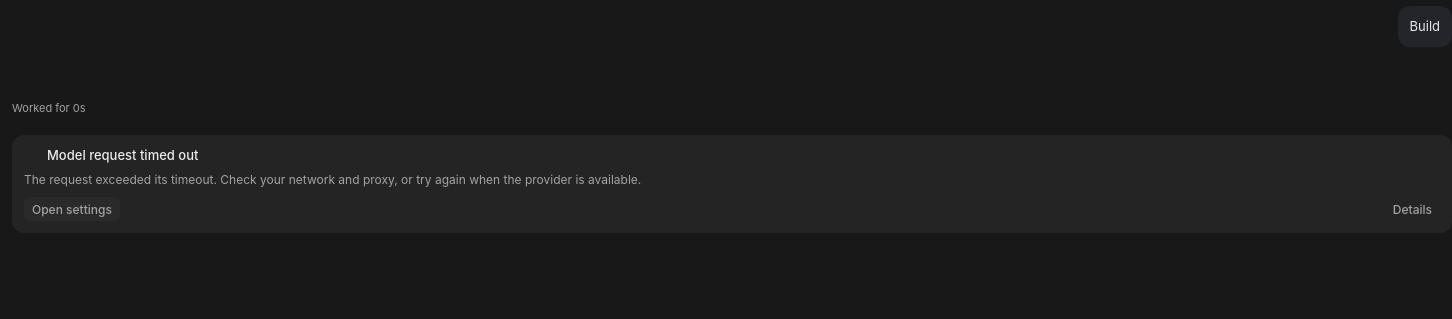
Test case: AgentTimeline › says when copying an error's diagnostics fails, and lets the copied note expire
The width and height of the screenshot is (1452, 319).
Later steps or results of the test are not shown.
Click the button "Details". click: [1412, 209]
box: [1385,197,1440,221]
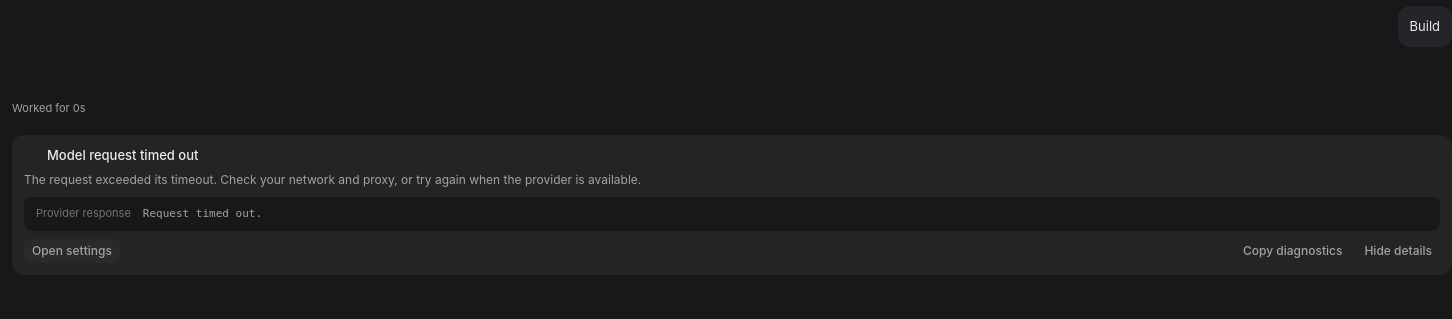
Click the button "Copy diagnostics". click: [1293, 251]
box: [1235,239,1350,263]
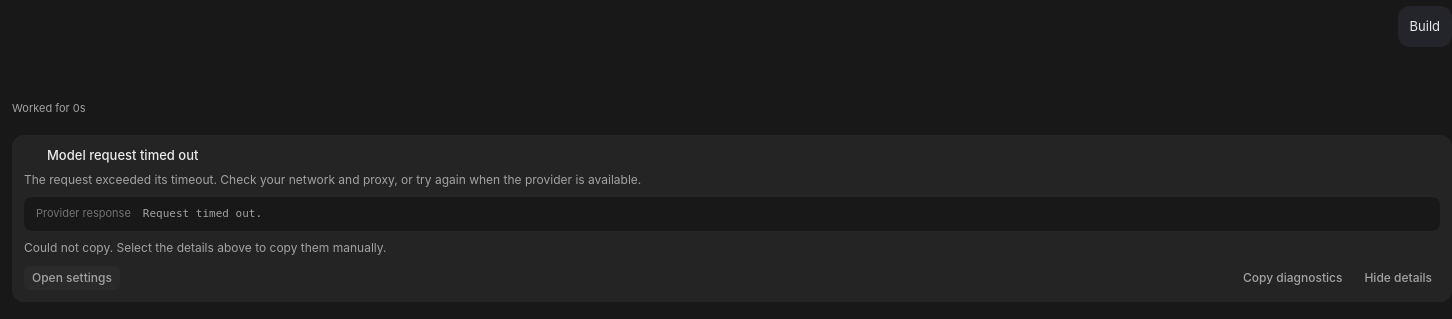
Expected: the text "Could not copy. Select the details above to copy them manually." is shown, [24,240,386,255]
